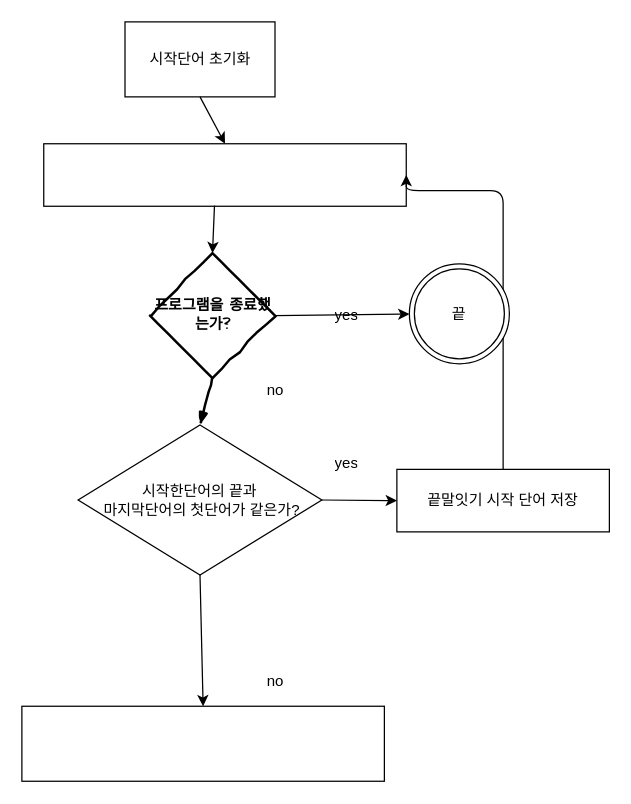
Image size: 631x804. Some labels were removed from this diagram. The centre of each missing label's shape, as x and y in pixels:
대답 입력: the point at 224,174
오답 결과 메시지 출력: the point at 202,743
